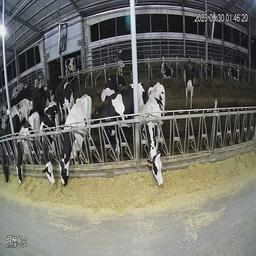cow: (59, 84, 91, 193), (90, 83, 145, 145), (144, 79, 172, 190), (35, 89, 60, 190), (15, 107, 41, 195), (3, 103, 19, 192), (183, 56, 198, 115), (116, 44, 144, 75), (9, 92, 36, 115), (159, 54, 176, 82), (61, 49, 77, 75), (203, 55, 218, 82), (225, 57, 238, 82), (29, 71, 46, 89)
